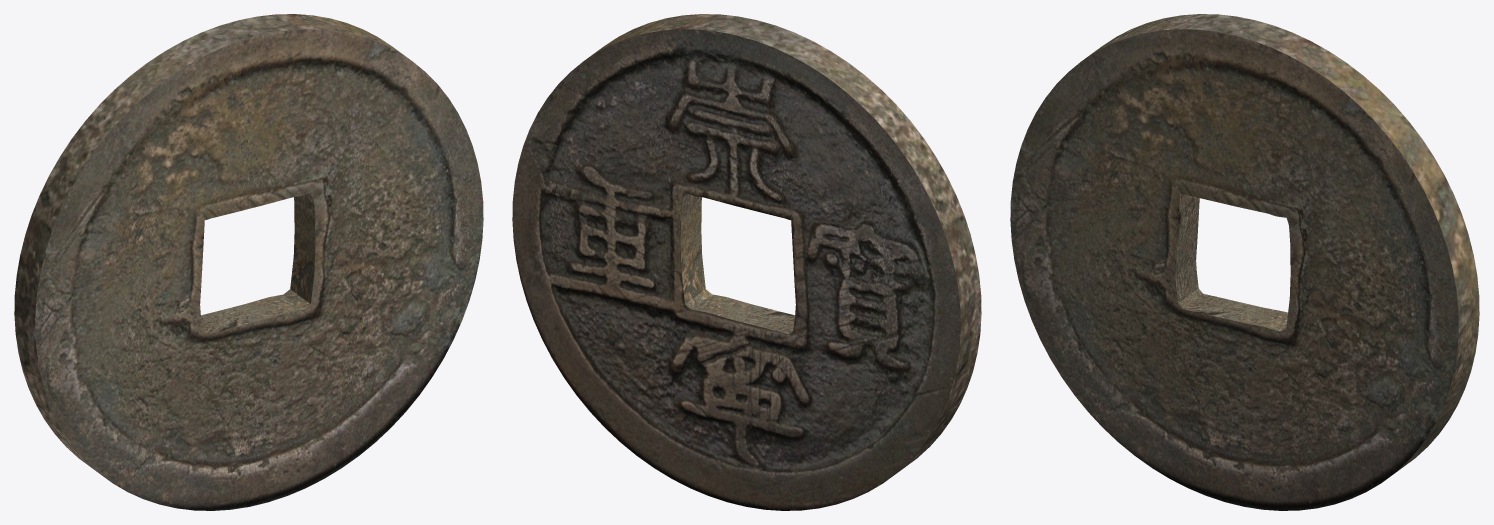
Rendered from coin.glb.
The picture shows the model from 3 angles, left to right: view 1: azimuth 30°, elevation 25°; view 2: azimuth 150°, elevation 25°; view 3: azimuth 330°, elevation 25°; orthographic projection.
Parts seen in each view (by area): view 1: Cylinder; view 2: Cylinder; view 3: Cylinder.
Boxes of the visible parts, x1,y1,x2,y2 form: Cylinder: (14, 14, 483, 510); Cylinder: (512, 14, 981, 510); Cylinder: (1010, 14, 1479, 510).
Size of the model in its own units: 2 by 2 by 0.1603.
Materials: 1 (1 with a texture image).
